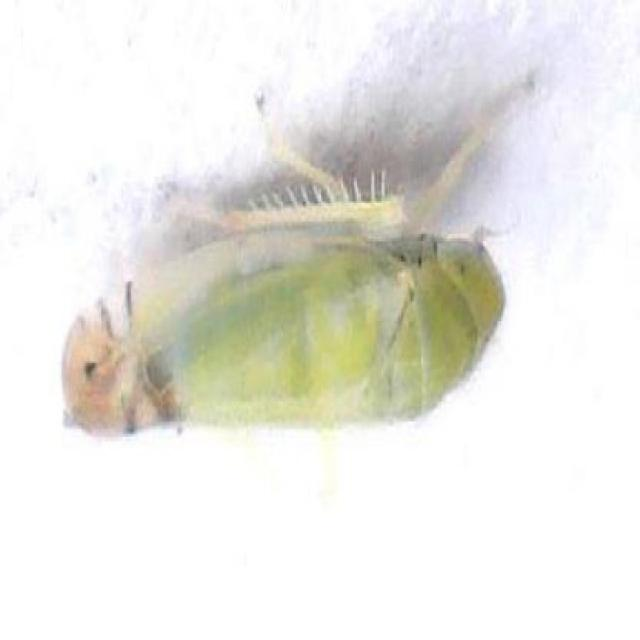green-leafhopper: (63, 209, 506, 454)
